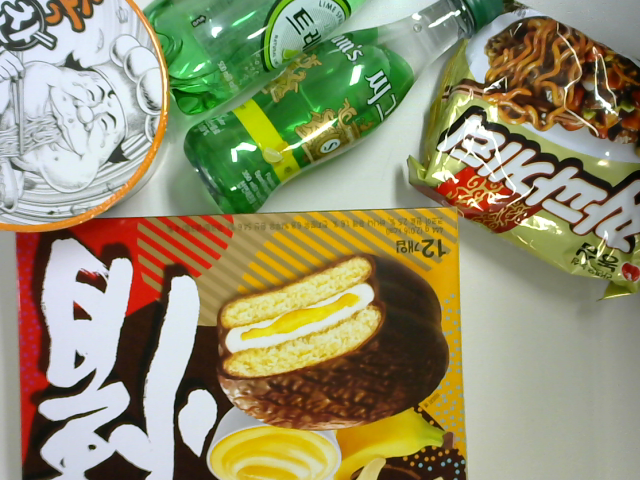Choco_Pie_Banana: (7, 206, 471, 480)
Hejangchan: (1, 2, 167, 230)
Olive_Chapaghetti: (419, 6, 640, 310)
Seagram_Lemon_Carbonated_Water: (205, 6, 515, 212)
Treviraim_500ml: (145, 2, 369, 106)
